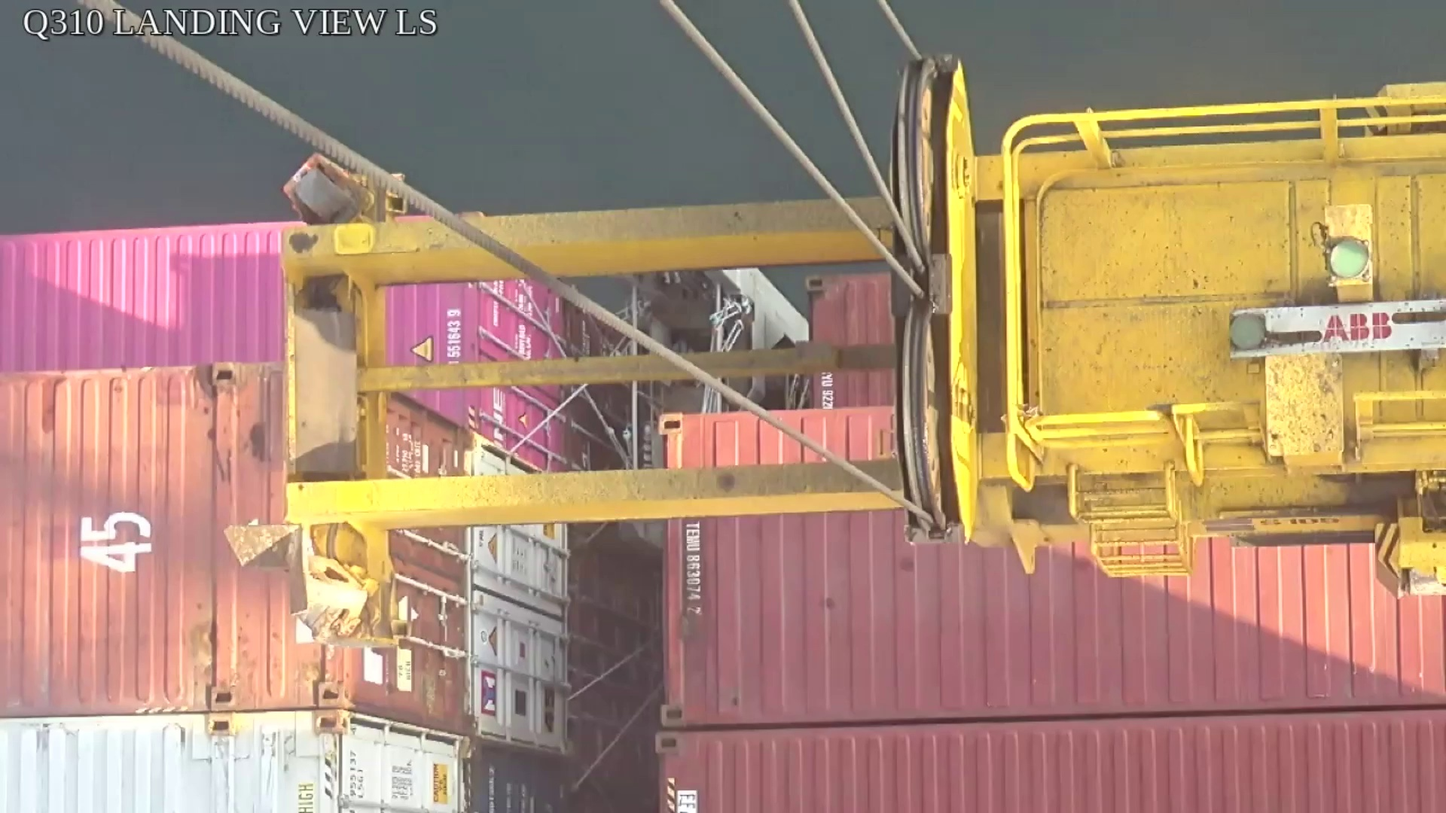aa: (887, 53, 984, 550)
